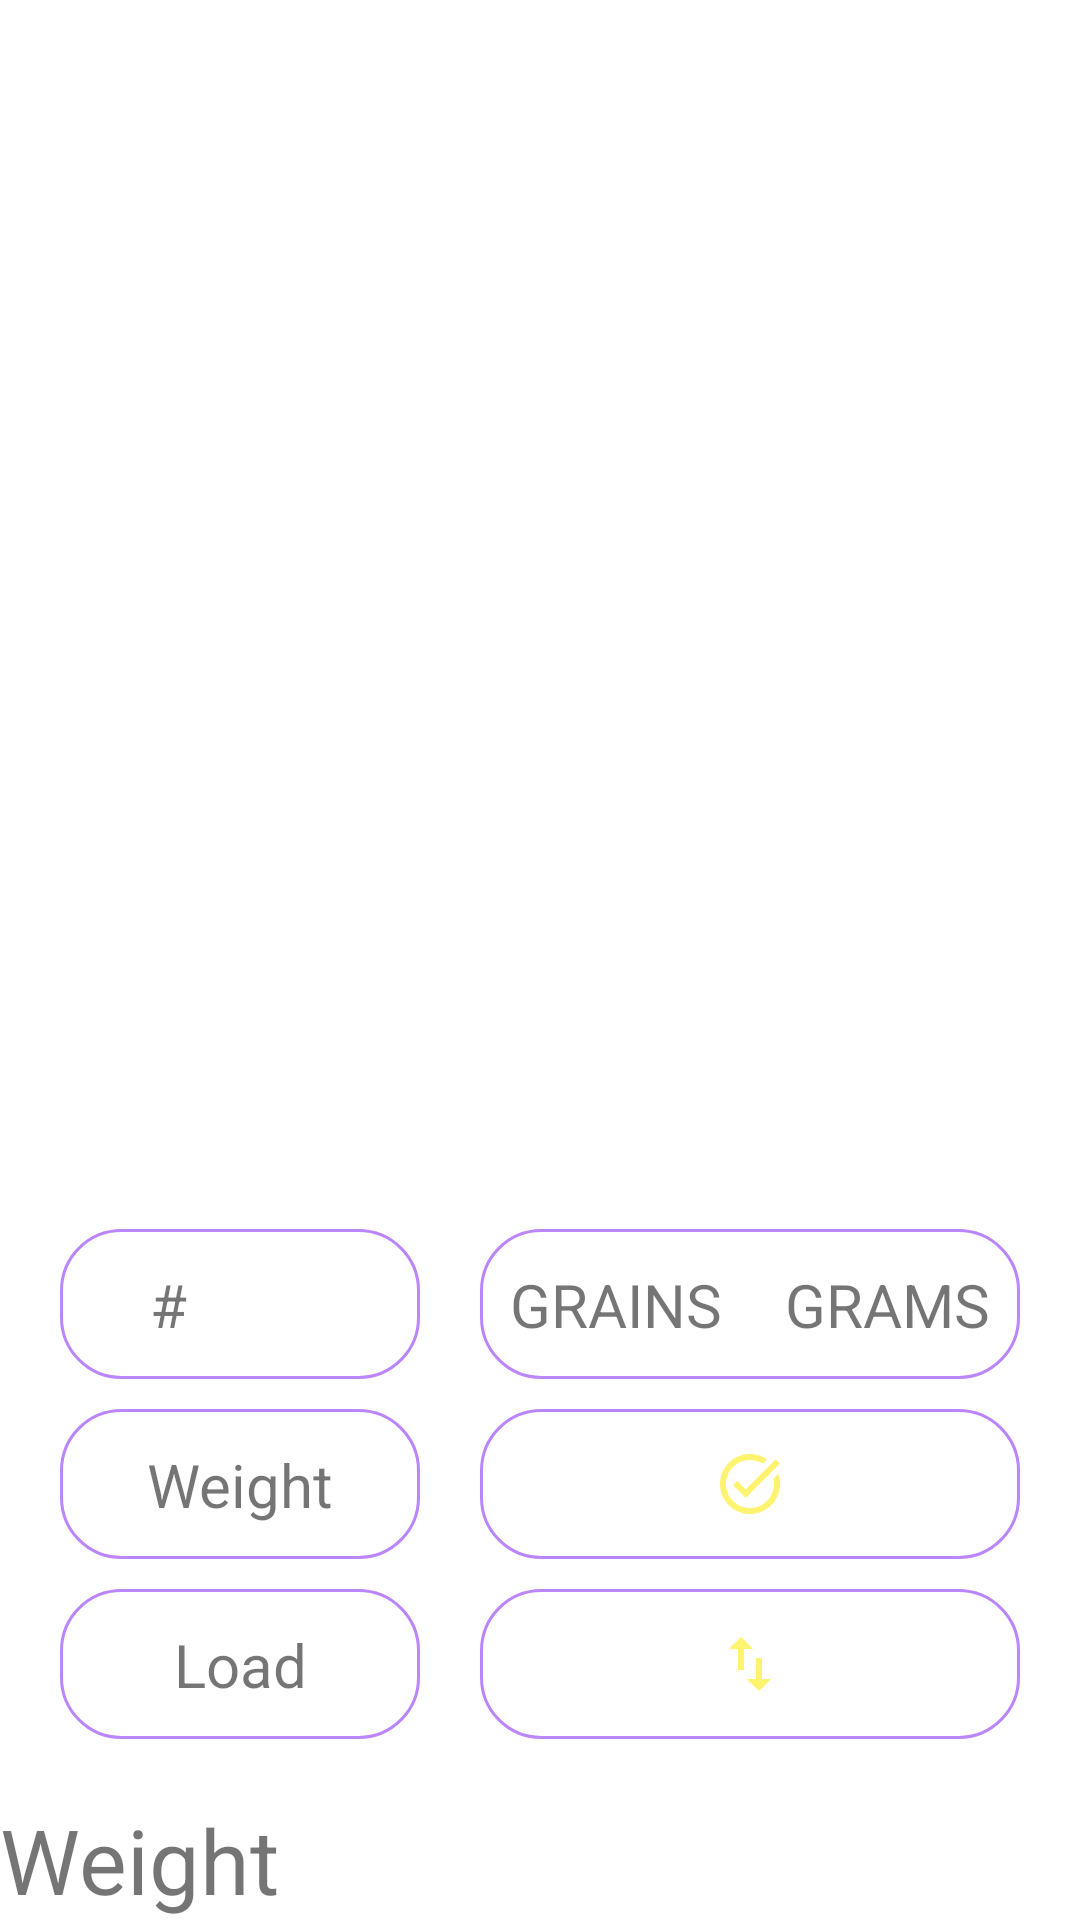

Point at icon controls on the screen. Image size 1080 x 1920, points as point (x, y).
swap vert: point (750, 1664)
task: point (750, 1484)
